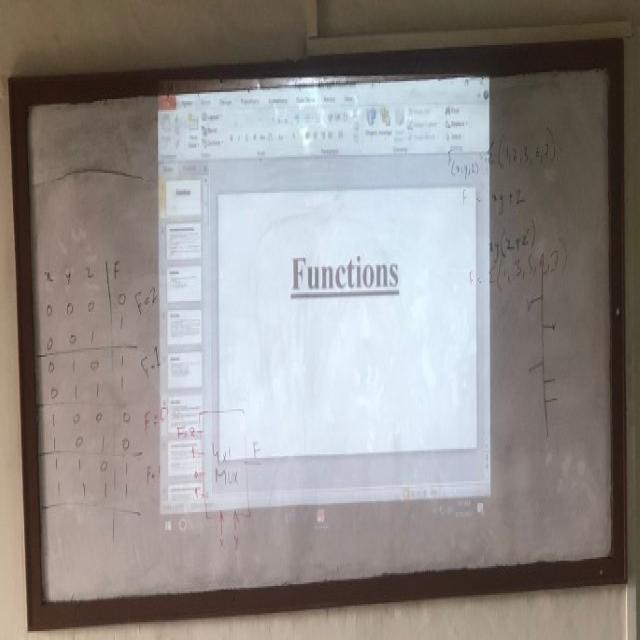Slide: (156, 67, 491, 547)
White-board: (19, 59, 618, 620)
